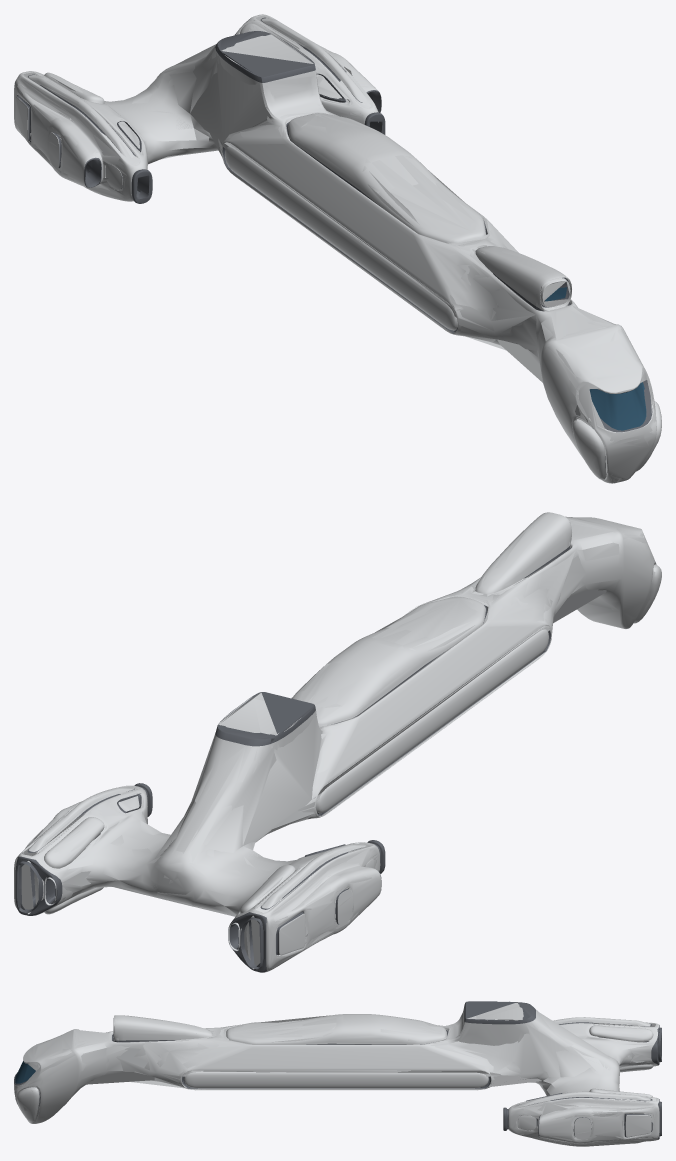
The model's file is cargo_crane_exterior.glb.
3 renders of one model, top to bottom at view 1: azimuth 30°, elevation 25°; view 2: azimuth 150°, elevation 25°; view 3: azimuth 270°, elevation 25°, orthographic. The views are drawn at different scales.
Parts seen in each view (by area): view 1: cargo_crane_exterior; view 2: cargo_crane_exterior; view 3: cargo_crane_exterior.
Boxes of the visible parts, x1,y1,x2,y2 form: cargo_crane_exterior: (14,14,661,483); cargo_crane_exterior: (14,512,661,972); cargo_crane_exterior: (14,1001,661,1146).
Bounding box in the file's own units: 52.04 × 28.12 × 150.
